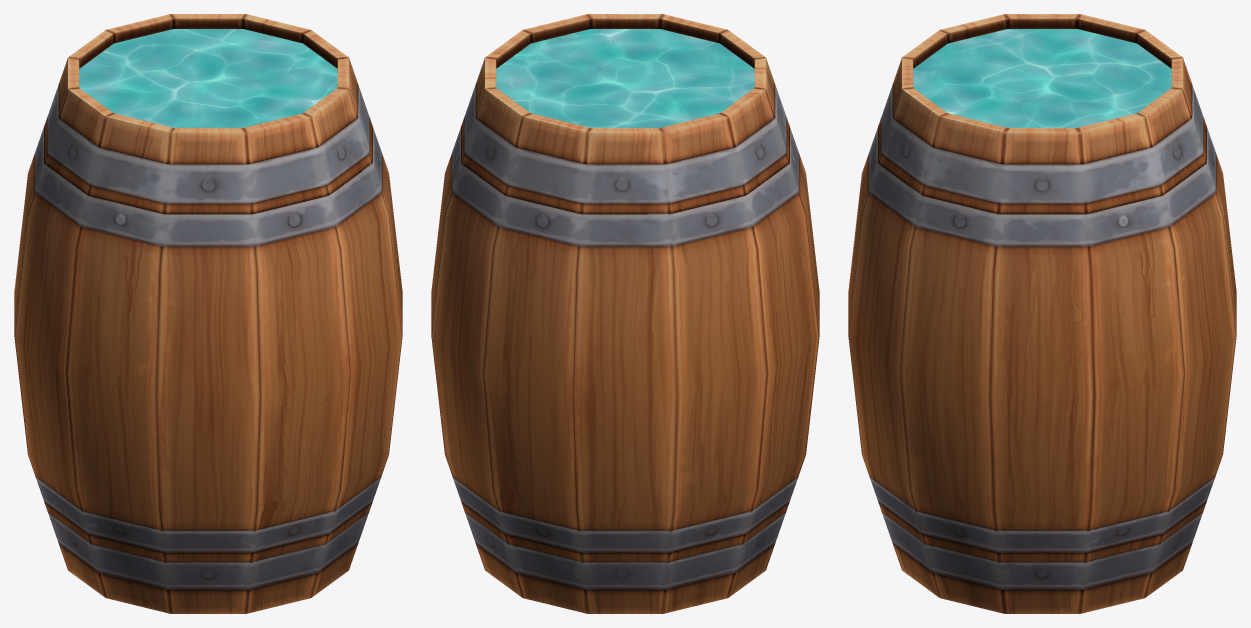
Rendered from BarrelWooden01_3.FBX.
The picture shows the model from 3 angles, left to right: view 1: azimuth 30°, elevation 25°; view 2: azimuth 150°, elevation 25°; view 3: azimuth 270°, elevation 25°; orthographic projection.
Parts seen in each view (by area): view 1: BarrelWooden01_3; view 2: BarrelWooden01_3; view 3: BarrelWooden01_3.
Part boxes in pixels (<box>): BarrelWooden01_3: <box>14,14,402,613</box>; BarrelWooden01_3: <box>431,14,819,613</box>; BarrelWooden01_3: <box>848,14,1236,613</box>.
Size of what is drawn, in the model's own units: 0.7252 by 0.9919 by 0.7252.
